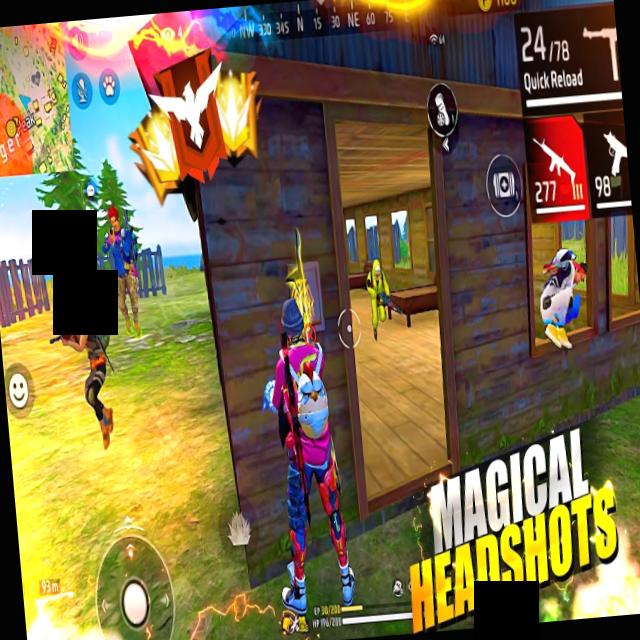character: (51, 291, 127, 454), (96, 202, 146, 338), (531, 242, 590, 354), (363, 258, 393, 342)
